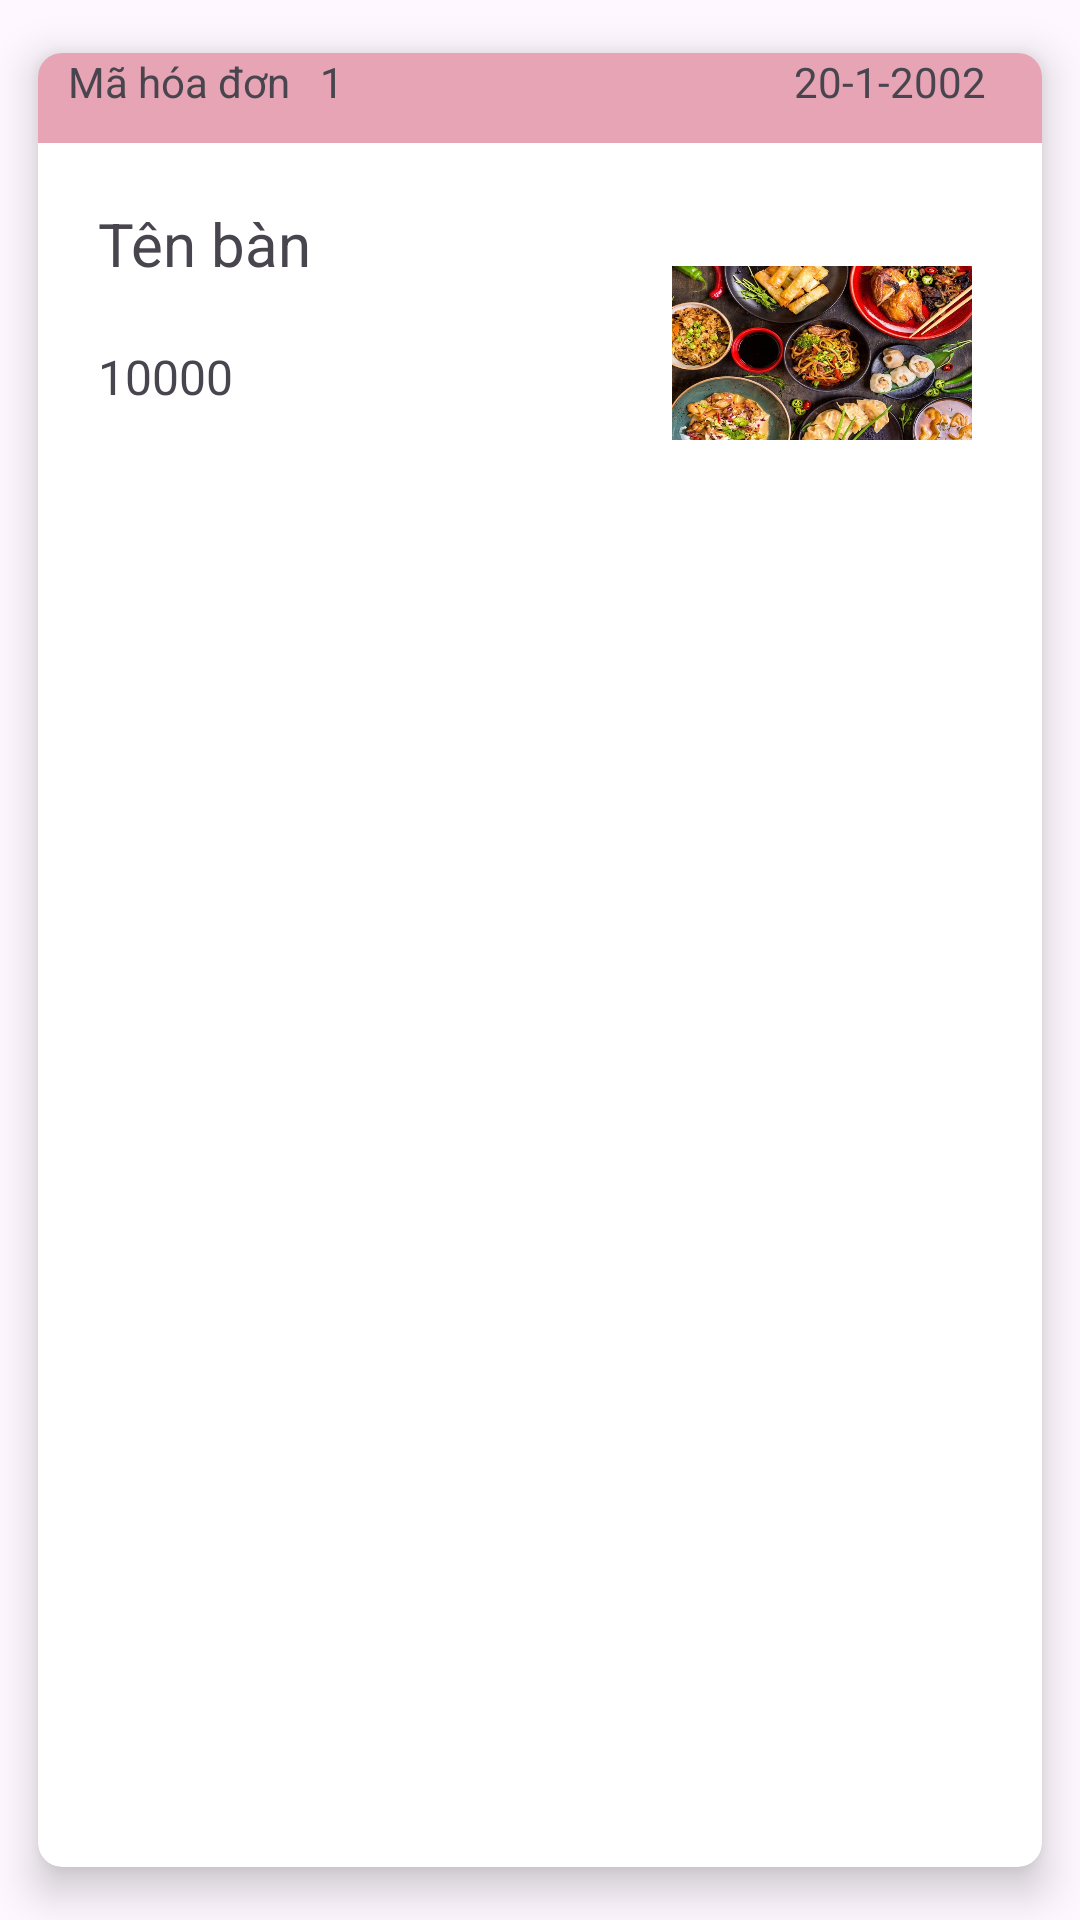

Screen size 1080*1920. Icon name, then its center in pixels as (x=x, y=y):
mon an: (x=822, y=353)
